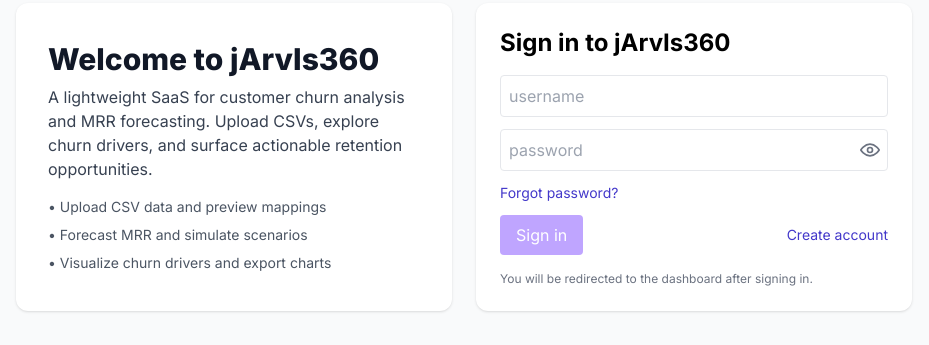
Scenario: Auth pages › LoginPage shows error when auth.login rejects
Type "x" into the field with placeholder "username" at (694, 96), box [500,75,888,117]
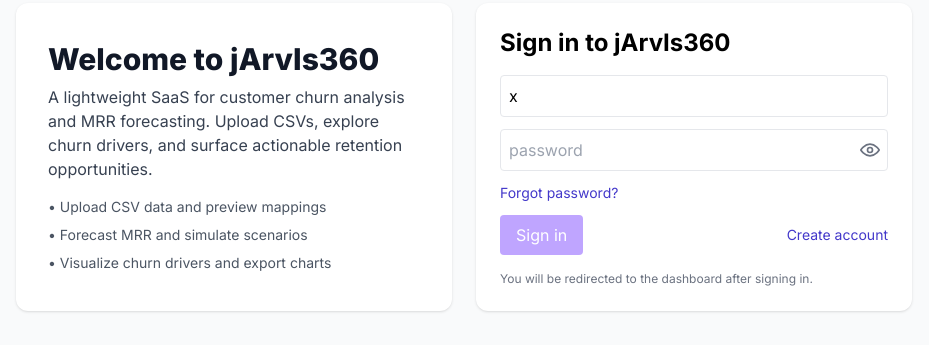
Type "y" into the password field with placeholder "password" at (694, 150), box [500,129,888,171]
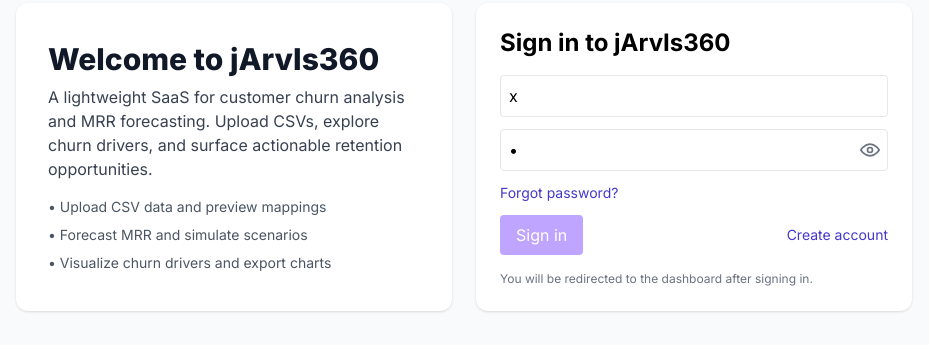
Click the button "Sign in" at (542, 235), box [500,215,583,255]
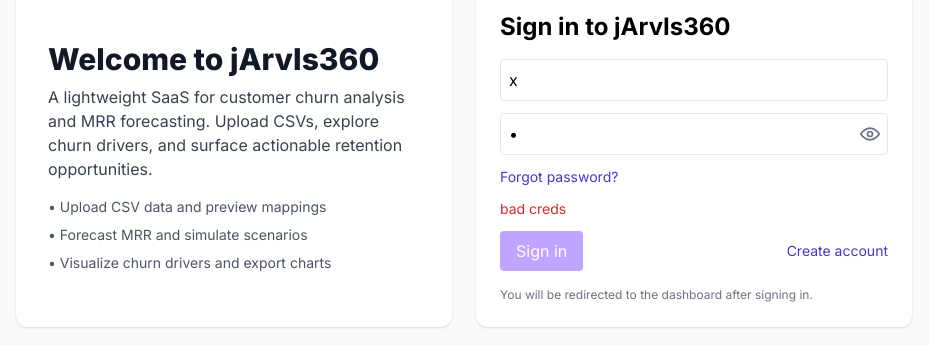
Result: the text "bad creds" is shown at [500,200,566,217]
